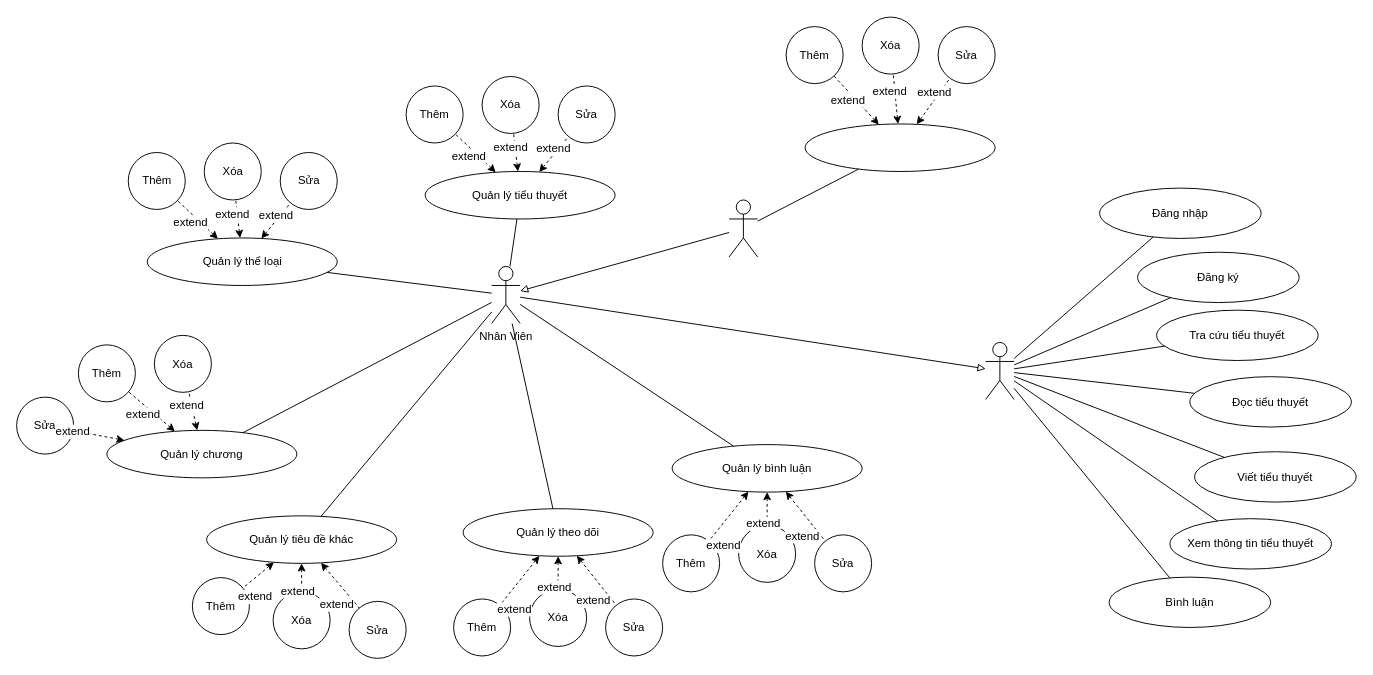
Image size: 1373x675. Some labels were removed from this diagram. Here are the shapes that lost their labels. From the top down, the box of each, then its label:
(804, 123, 995, 171): Quản lý tài khoản
(728, 199, 758, 257): Quản lý
(985, 342, 1014, 399): Người Dùng
